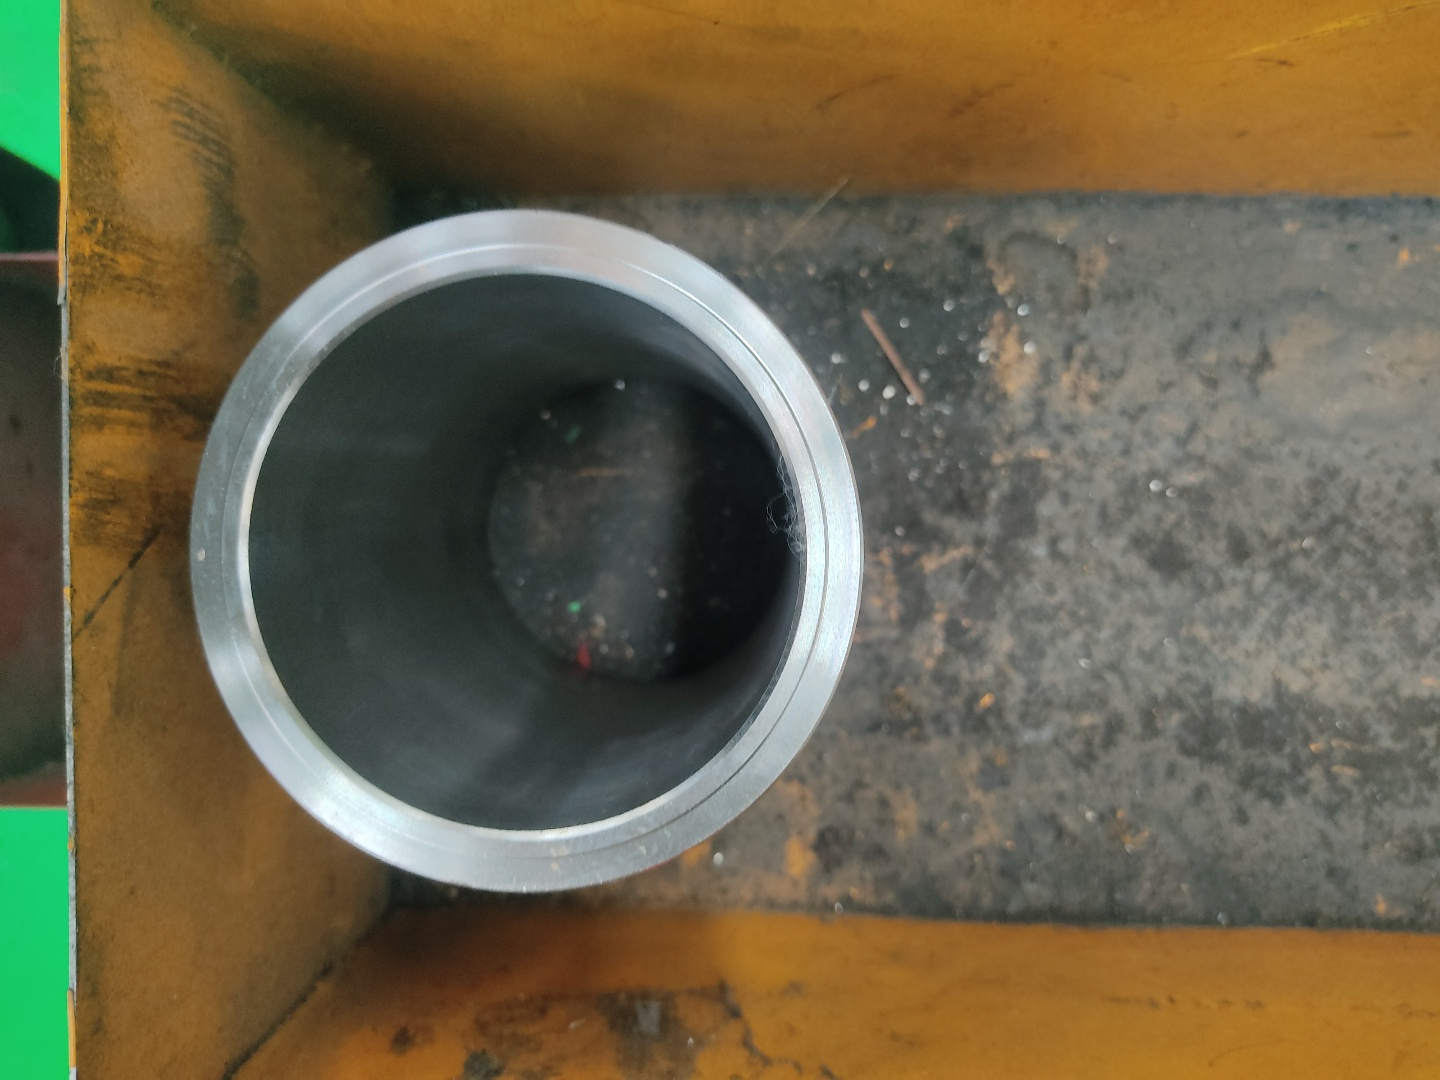cylinder: (185, 202, 869, 901)
